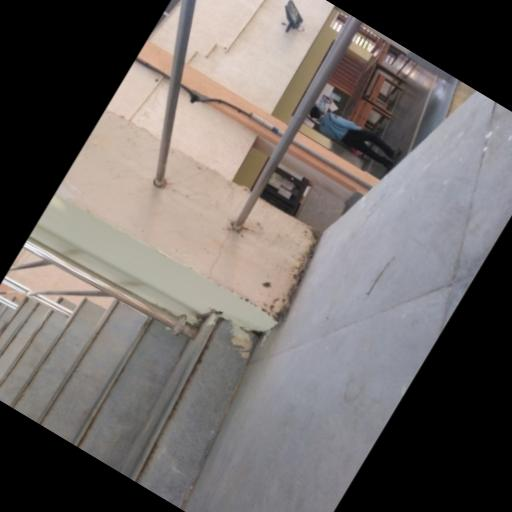stairs: (0, 299, 257, 508)
